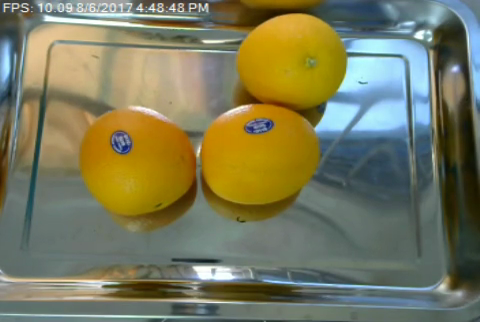Orange: (80, 107, 196, 216), (200, 102, 320, 202), (237, 11, 348, 108)
